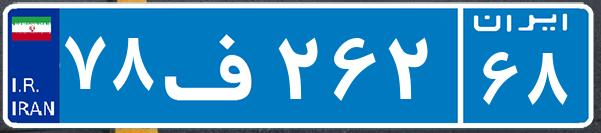2: (385, 28, 445, 110), (273, 28, 330, 110)
6: (330, 28, 385, 110), (475, 38, 525, 113)
7: (57, 26, 110, 107)
8: (110, 28, 158, 105), (525, 38, 570, 115)
ف: (158, 15, 273, 115)
